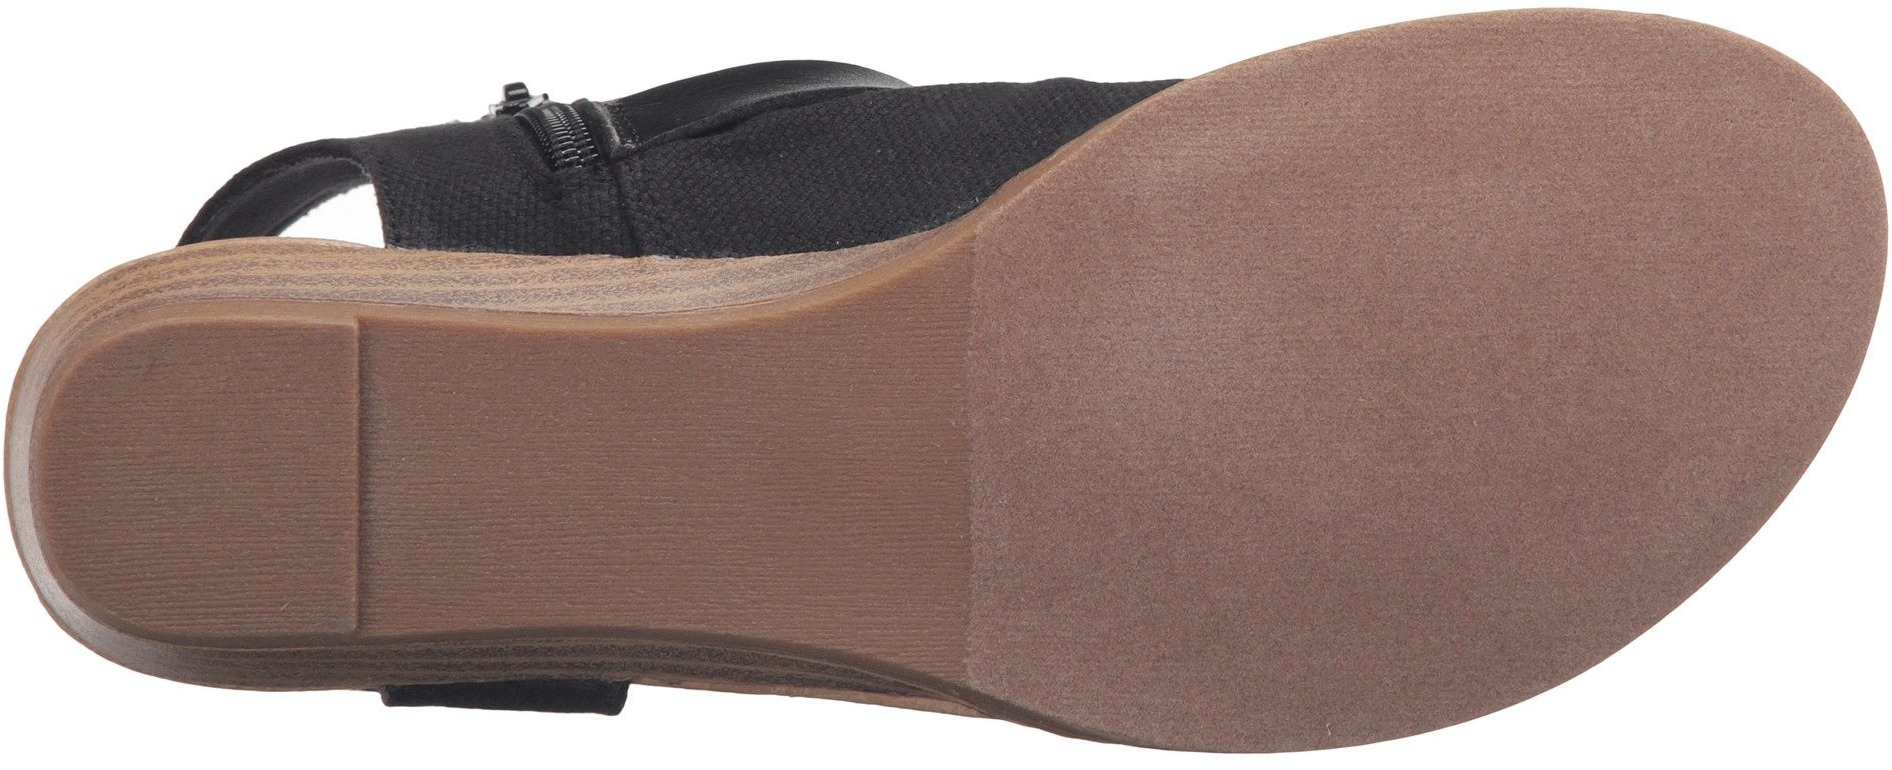other: (654, 323, 969, 634), (354, 346, 648, 612), (99, 358, 348, 593)
